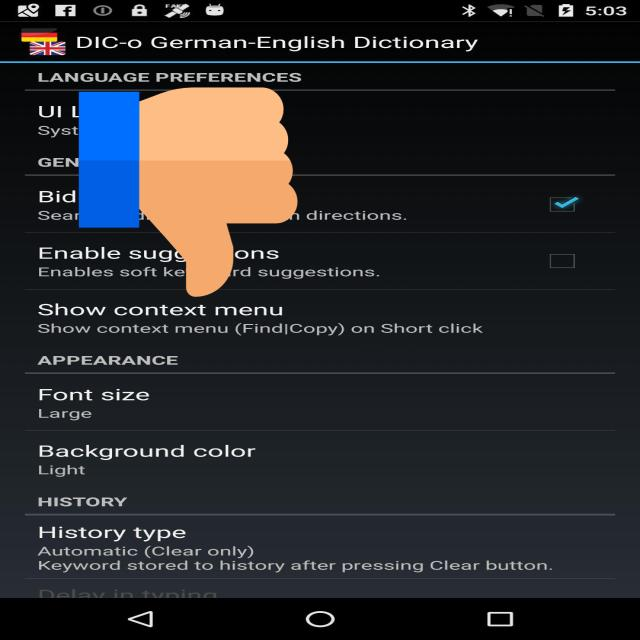obstruction: (79, 82, 297, 302)
